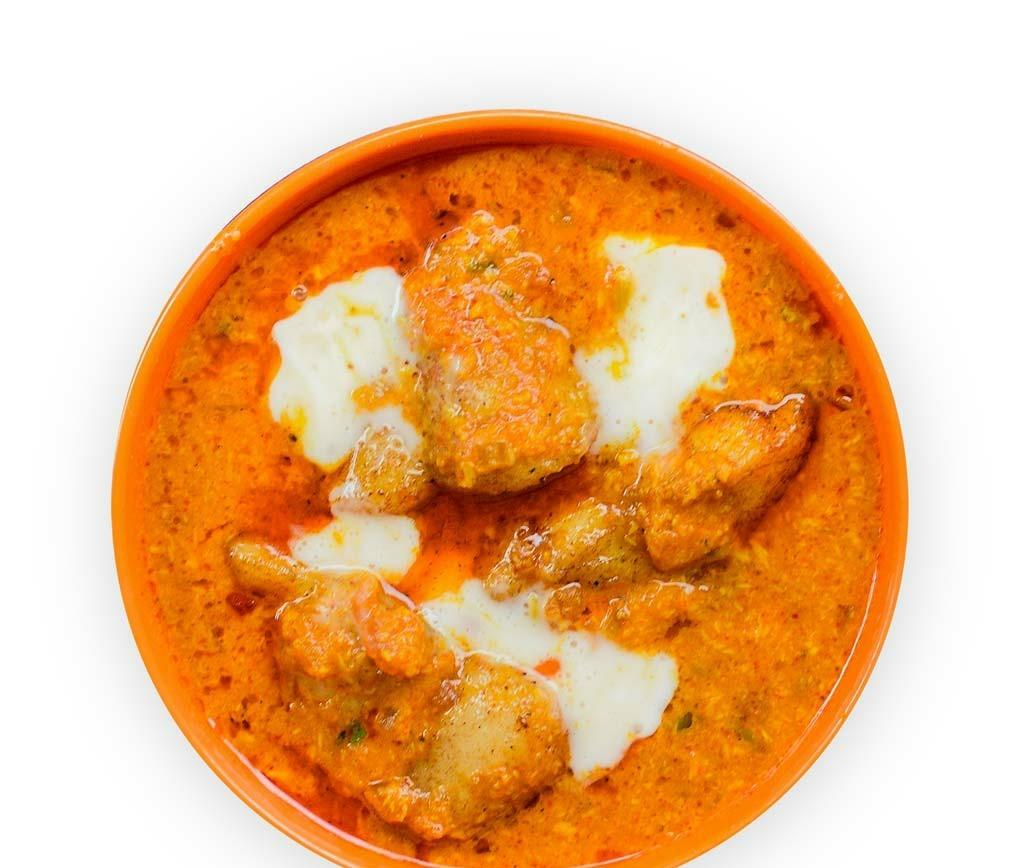FishCurry: (131, 143, 885, 868)
